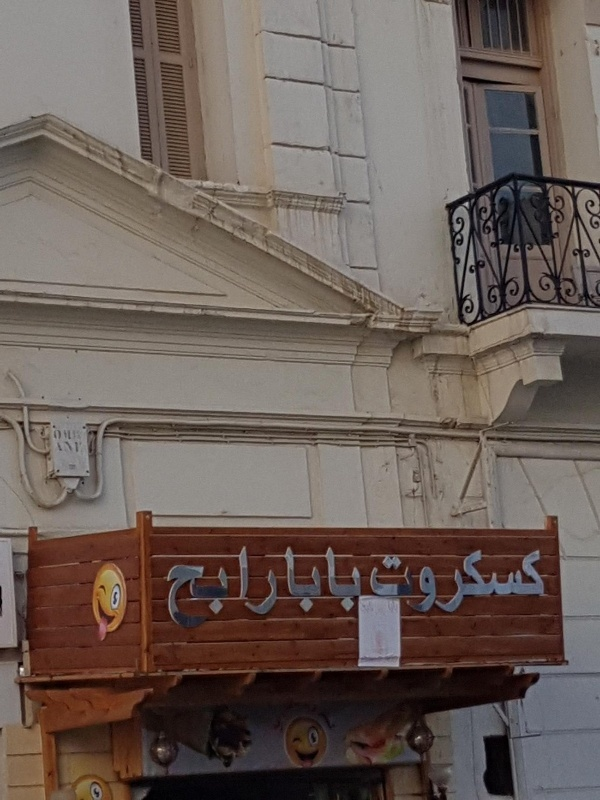text: (177, 545, 192, 629), (193, 545, 208, 629), (209, 545, 224, 629), (225, 545, 240, 629), (241, 545, 256, 629), (257, 545, 272, 629), (289, 547, 304, 615), (305, 547, 320, 615), (321, 547, 336, 615), (337, 547, 352, 615), (385, 549, 400, 614), (401, 549, 416, 614), (417, 549, 432, 614), (433, 549, 448, 614), (449, 549, 464, 614), (465, 549, 480, 614), (481, 549, 496, 614), (497, 549, 512, 614), (513, 549, 528, 614), (529, 549, 544, 614), (370, 549, 384, 614), (168, 545, 176, 629), (353, 547, 362, 615), (273, 545, 279, 629), (284, 547, 288, 615), (545, 549, 546, 614)
